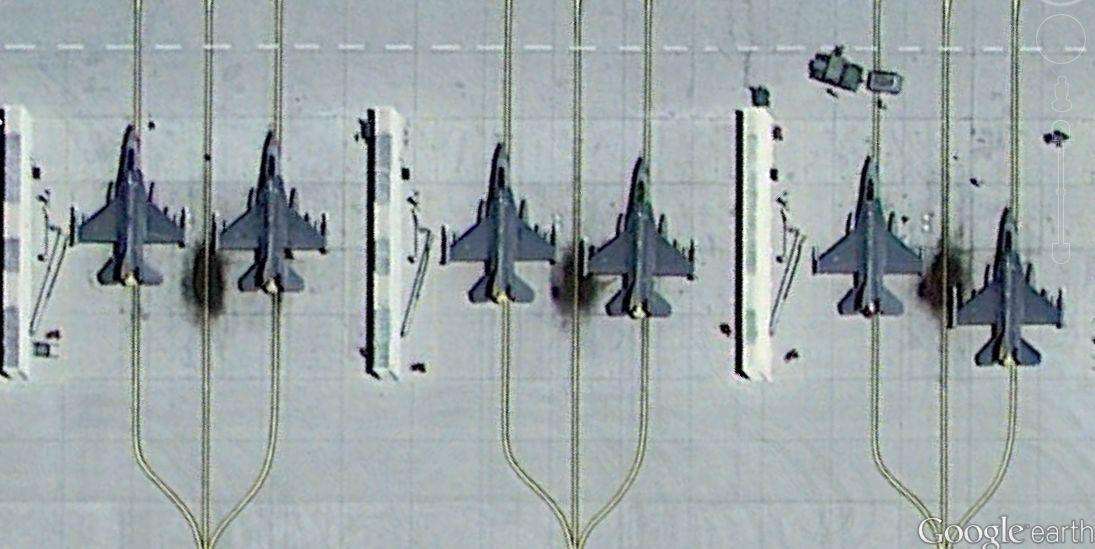F-16: (68, 113, 188, 291), (443, 141, 565, 304), (809, 155, 928, 319), (214, 128, 334, 290), (584, 153, 700, 319), (950, 208, 1067, 368)
